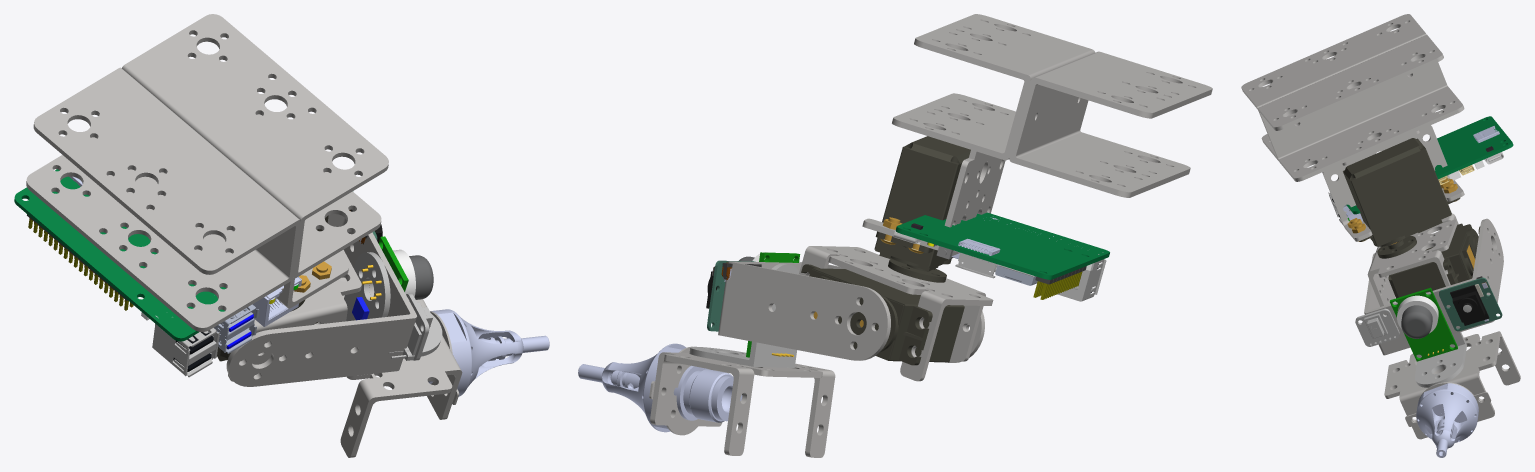
Rendered from robot_assembly.glb.
The picture shows the model from 3 angles, left to right: view 1: azimuth 30°, elevation 25°; view 2: azimuth 150°, elevation 25°; view 3: azimuth 270°, elevation 25°; orthographic projection. The views are drawn at different scales.
Parts seen in each view (by area): view 1: Solid1 (×10), Solid47, Solid5, Solid74, Solid89, Solid75; view 2: Solid1 (×13), Solid47, Solid74, Solid3; view 3: Solid1 (×15), Solid5, Solid47, Solid94, Solid2.
Part boxes in pixels (x1,y1,x2,y2): Solid1 (×10): [26, 14, 549, 457]; Solid47: [14, 169, 225, 341]; Solid5: [352, 236, 433, 320]; Solid74: [152, 315, 219, 377]; Solid89: [209, 304, 259, 353]; Solid75: [252, 276, 301, 326]; Solid1 (×13): [578, 14, 1212, 457]; Solid47: [895, 212, 1109, 279]; Solid74: [1056, 239, 1106, 301]; Solid3: [714, 376, 742, 421]; Solid1 (×15): [1241, 14, 1520, 457]; Solid5: [1390, 287, 1457, 361]; Solid47: [1346, 116, 1513, 214]; Solid94: [1450, 285, 1489, 325]; Solid2: [1364, 313, 1387, 338].
Bounding box in the file's own units: 0.2106 × 0.1707 × 0.1358.
